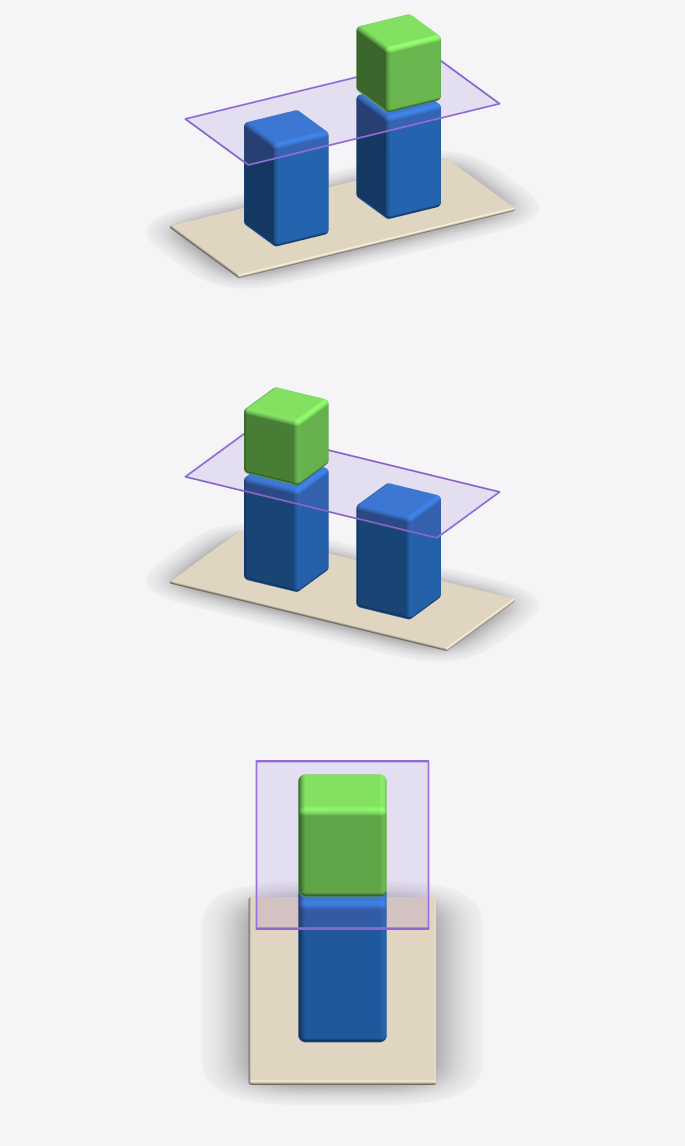
Rendered from sett-scroll-voordeel-vermogen.glb.
3 renders of one model, top to bottom at view 1: azimuth 30°, elevation 25°; view 2: azimuth 150°, elevation 25°; view 3: azimuth 270°, elevation 25°, orthographic. The views are drawn at different scales.
Parts seen in each view (by area): view 1: object 9, object 4, object 1, object 2, scroll_grow, contact_shadow, object 6; view 2: object 9, object 4, object 1, object 2, scroll_grow, contact_shadow, object 5; view 3: object 9, object 4, object 2, scroll_grow, contact_shadow.
Boxes of the visible parts, <box> form: object 9: <box>170,158,514,277</box>; object 4: <box>189,62,496,162</box>; object 1: <box>244,110,328,246</box>; object 2: <box>356,94,440,218</box>; scroll_grow: <box>356,14,440,112</box>; contact_shadow: <box>168,162,516,278</box>; object 6: <box>248,103,499,165</box>; object 9: <box>170,531,514,650</box>; object 4: <box>188,435,495,535</box>; object 1: <box>356,483,440,619</box>; object 2: <box>244,467,328,591</box>; scroll_grow: <box>244,387,328,485</box>; contact_shadow: <box>168,535,516,651</box>; object 5: <box>185,476,436,538</box>; object 9: <box>248,897,436,1084</box>; object 4: <box>258,761,426,926</box>; object 2: <box>298,891,386,1042</box>; scroll_grow: <box>298,774,386,896</box>; contact_shadow: <box>229,895,455,1093</box>.
Size of the model in its own units: 1260 by 508 by 1260.
6 materials, 1 textured.
